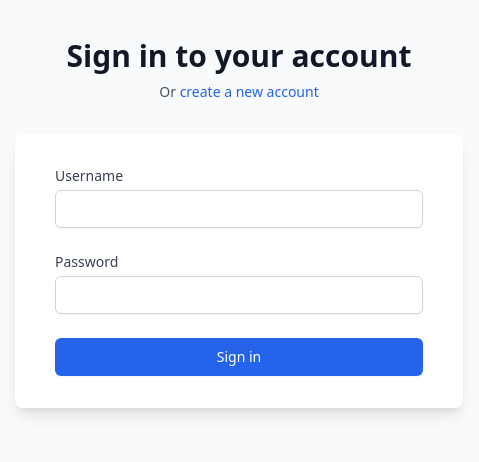
Scenario: LoginPage › should handle validation errors from backend
The width and height of the screenshot is (479, 462).
Type "test" into the field labelled "Username". click: (239, 209)
box: [55,190,423,228]
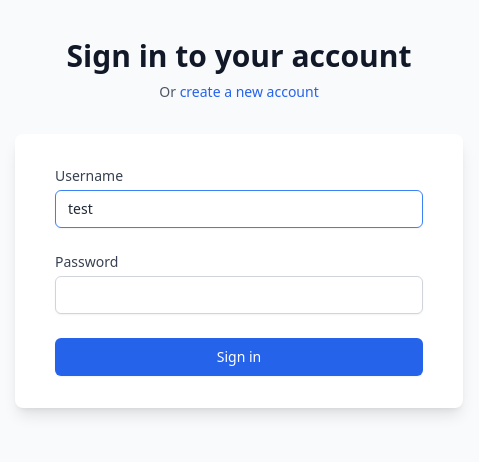
Type "123" into the password field labelled "Password". click: (239, 295)
box: [55,276,423,314]
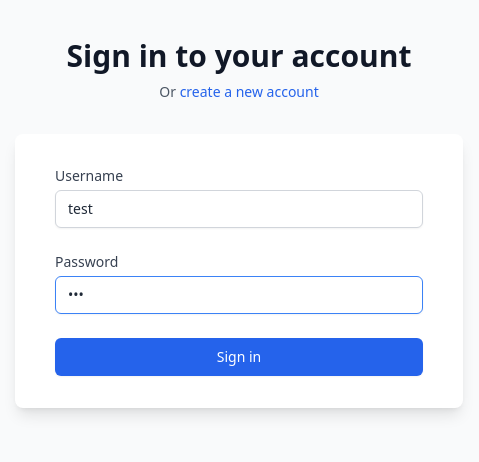
Click the button "Sign in". click: click(239, 357)
box: [55,338,423,376]
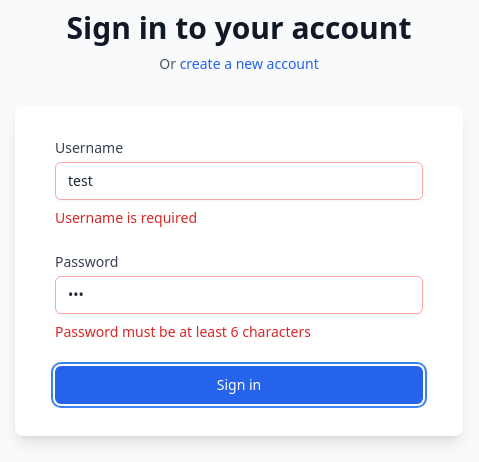
Expected: the text "Username is required" is shown, [55,208,197,227]
Expected: the text "Password must be at least 6 characters" is shown, [55,322,311,341]
